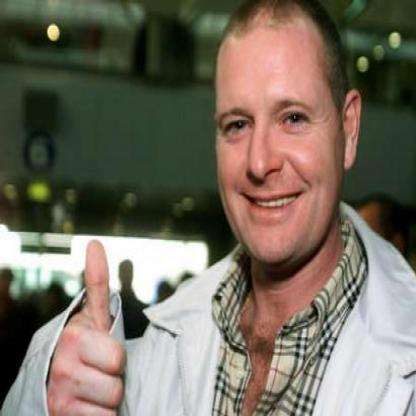face: (208, 1, 347, 267)
